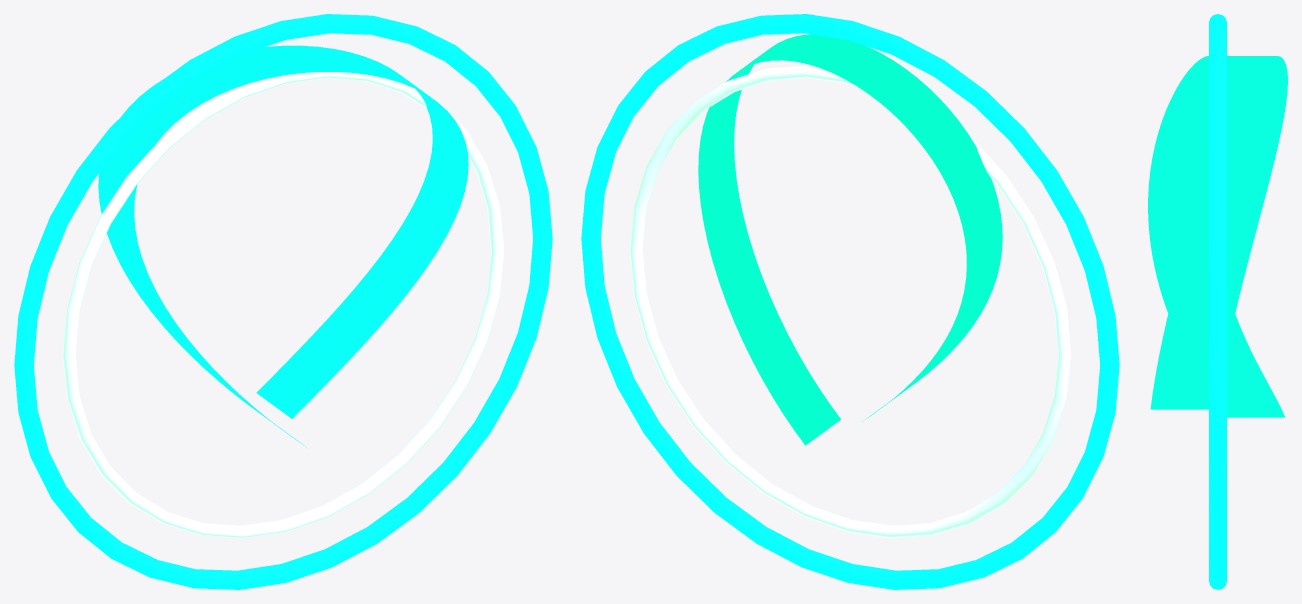
Rendered from laco-3d.glb.
The picture shows the model from 3 angles, left to right: view 1: azimuth 30°, elevation 25°; view 2: azimuth 150°, elevation 25°; view 3: azimuth 270°, elevation 25°; orthographic projection. The views are drawn at different scales.
Visible parts, largest first — view 1: OuterHoloRing_node, AbrilVerdeRibbon_node, InnerHoloRing_node; view 2: OuterHoloRing_node, AbrilVerdeRibbon_node, InnerHoloRing_node; view 3: AbrilVerdeRibbon_node, OuterHoloRing_node.
Part boxes in pixels (bbox=[...]): OuterHoloRing_node: bbox=[14, 14, 552, 589]; AbrilVerdeRibbon_node: bbox=[98, 45, 468, 447]; InnerHoloRing_node: bbox=[62, 72, 504, 538]; OuterHoloRing_node: bbox=[581, 14, 1119, 589]; AbrilVerdeRibbon_node: bbox=[698, 34, 1002, 445]; InnerHoloRing_node: bbox=[629, 65, 1071, 538]; AbrilVerdeRibbon_node: bbox=[1148, 56, 1287, 417]; OuterHoloRing_node: bbox=[1209, 14, 1226, 589].
Size of the model in its own units: 0.95 by 0.95 by 0.2298.
